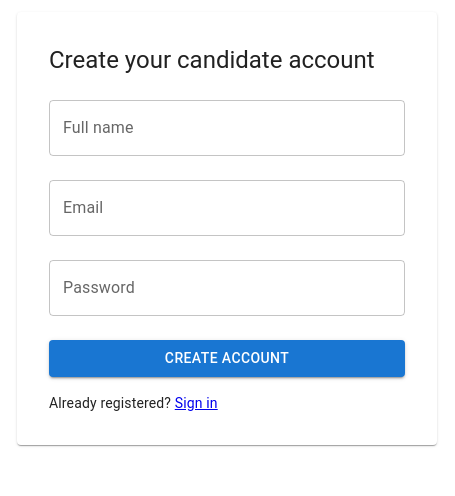
Test: CandidateSignupPage › maps server conflict errors onto the form
Type "Dup User" into the field labelled "Full name".
click(227, 128); type("Dup User")  # box [49,100,405,156]
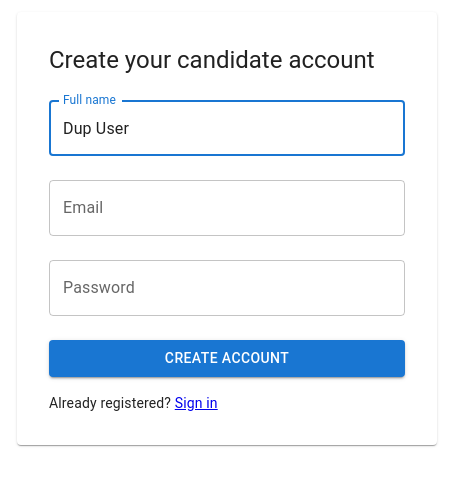
Type "dup@example.com" into the field labelled "Email".
click(227, 208); type("dup@example.com")  # box [49,180,405,236]
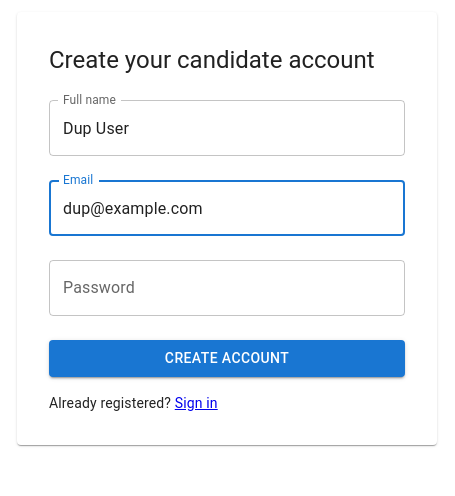
Type "sup3rSecret!" into the password field labelled "Password".
click(227, 288); type("sup3rSecret!")  # box [49,260,405,316]
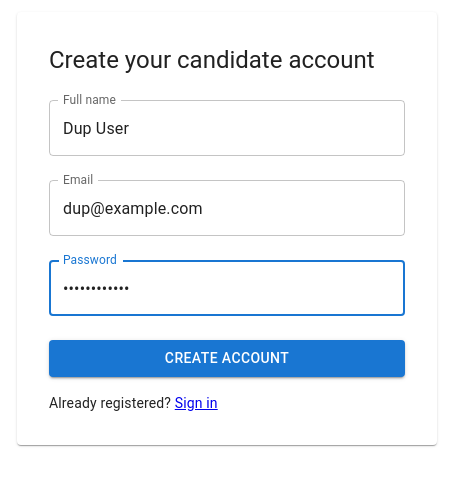
Click the button "Create account".
click(227, 359)  # box [49,340,405,377]
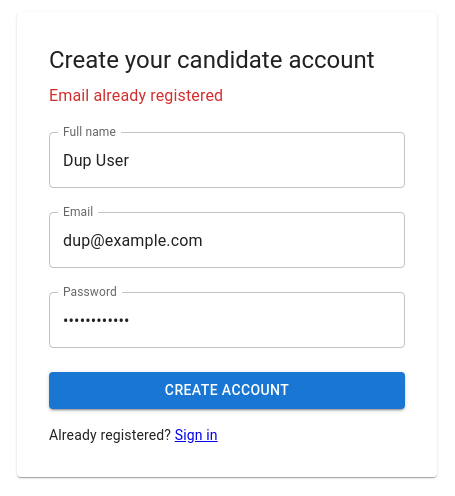
Expected: the text "Email already registered" is shown, [49,86,223,105]
